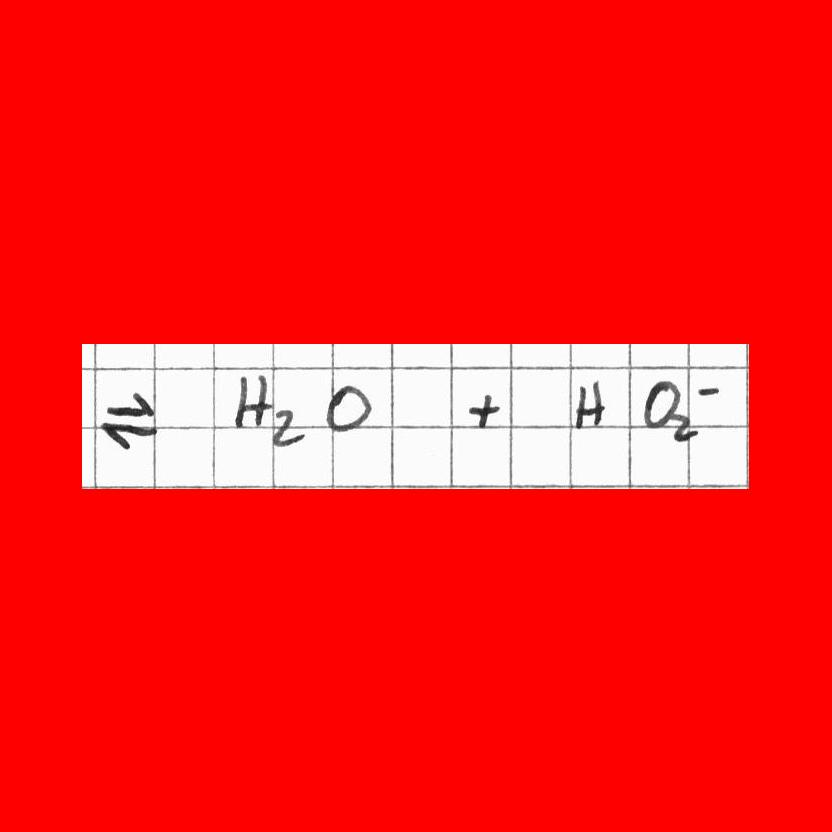Char: (103, 399, 157, 446), (324, 382, 371, 434), (232, 370, 270, 434), (572, 377, 608, 433), (642, 378, 679, 432), (270, 405, 308, 448), (466, 389, 501, 430), (668, 409, 699, 443), (693, 381, 721, 400)
